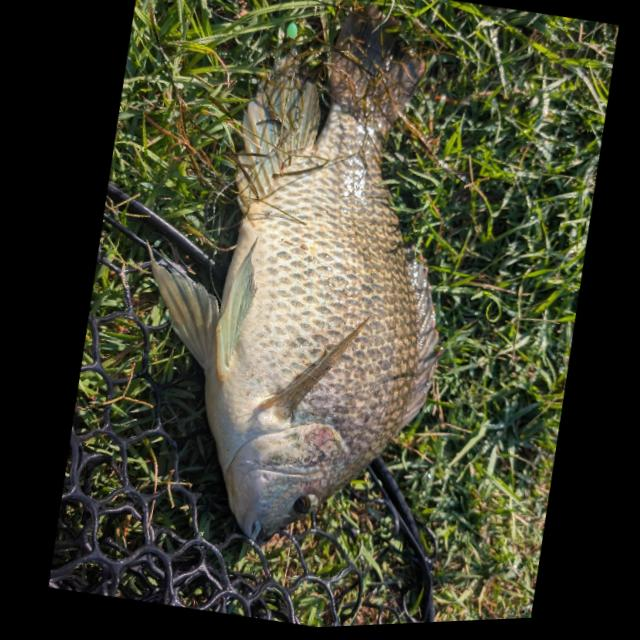Tilapia: (81, 0, 515, 577)
